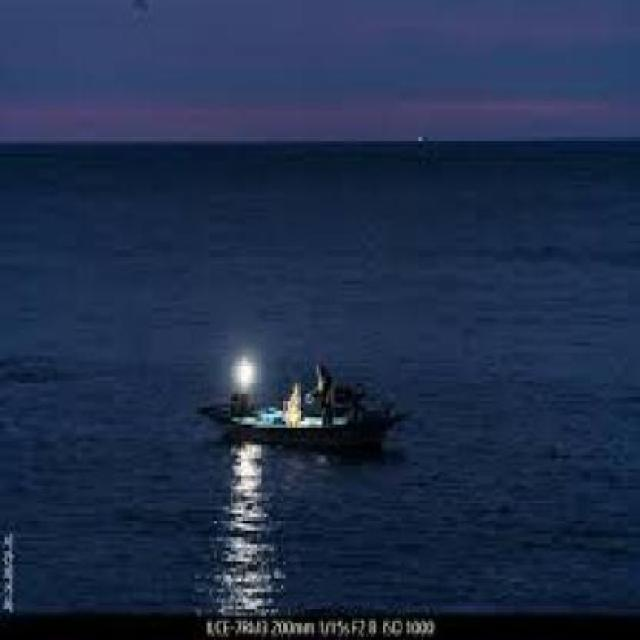fish-b: (194, 347, 420, 467)
